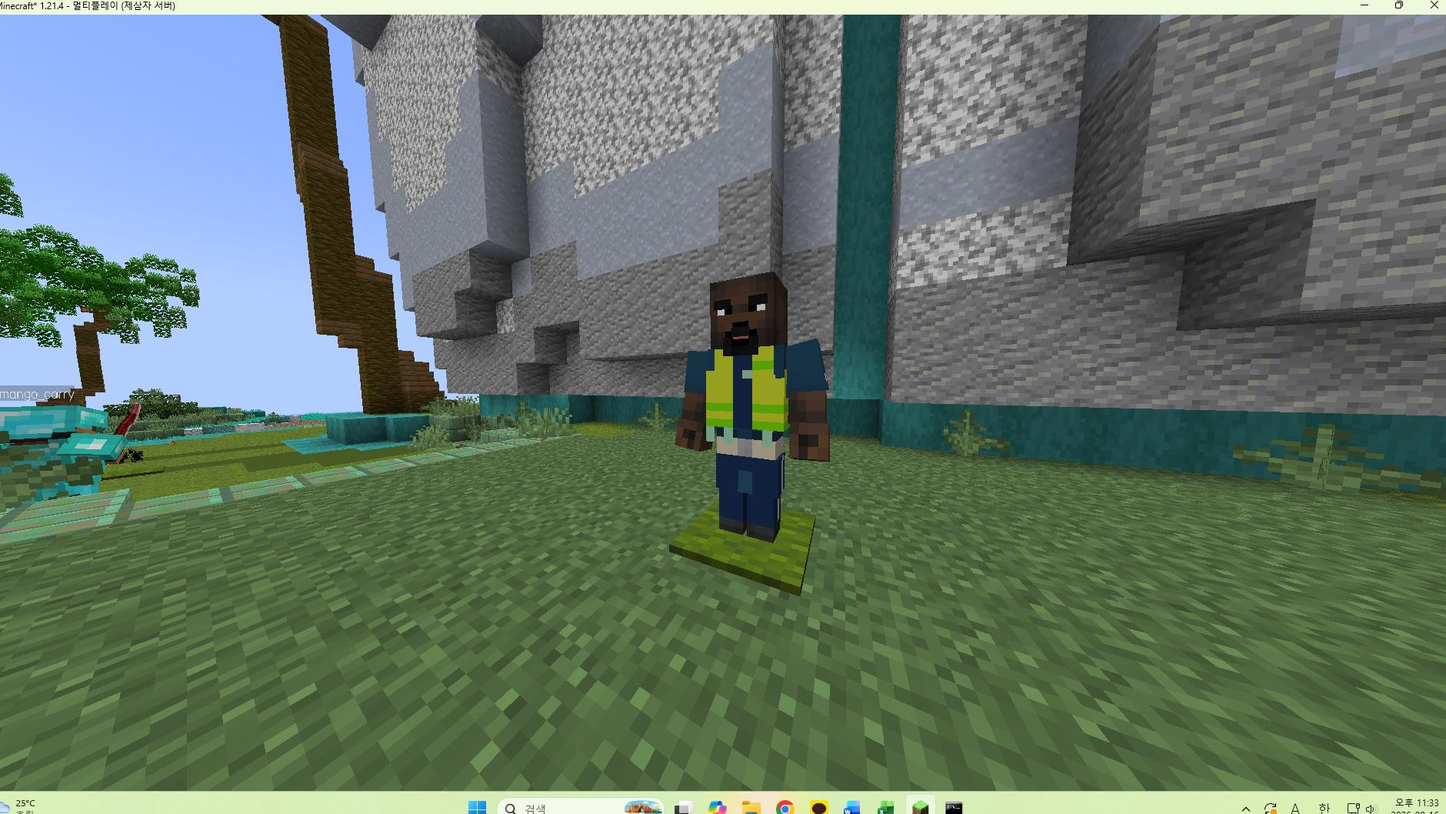Guardian: (676, 272, 829, 542)
